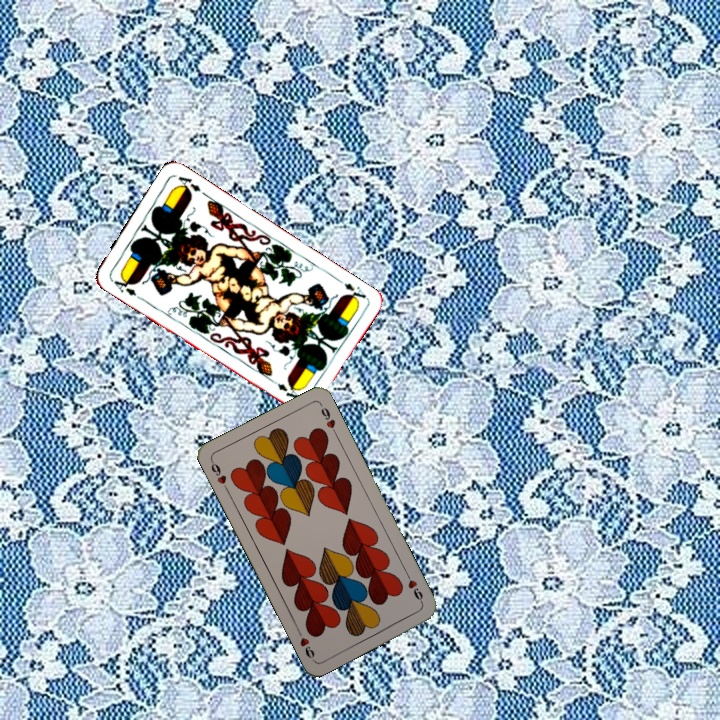EA: (332, 274, 369, 305), (107, 272, 139, 299)
H9: (402, 568, 426, 607), (207, 456, 231, 494)
